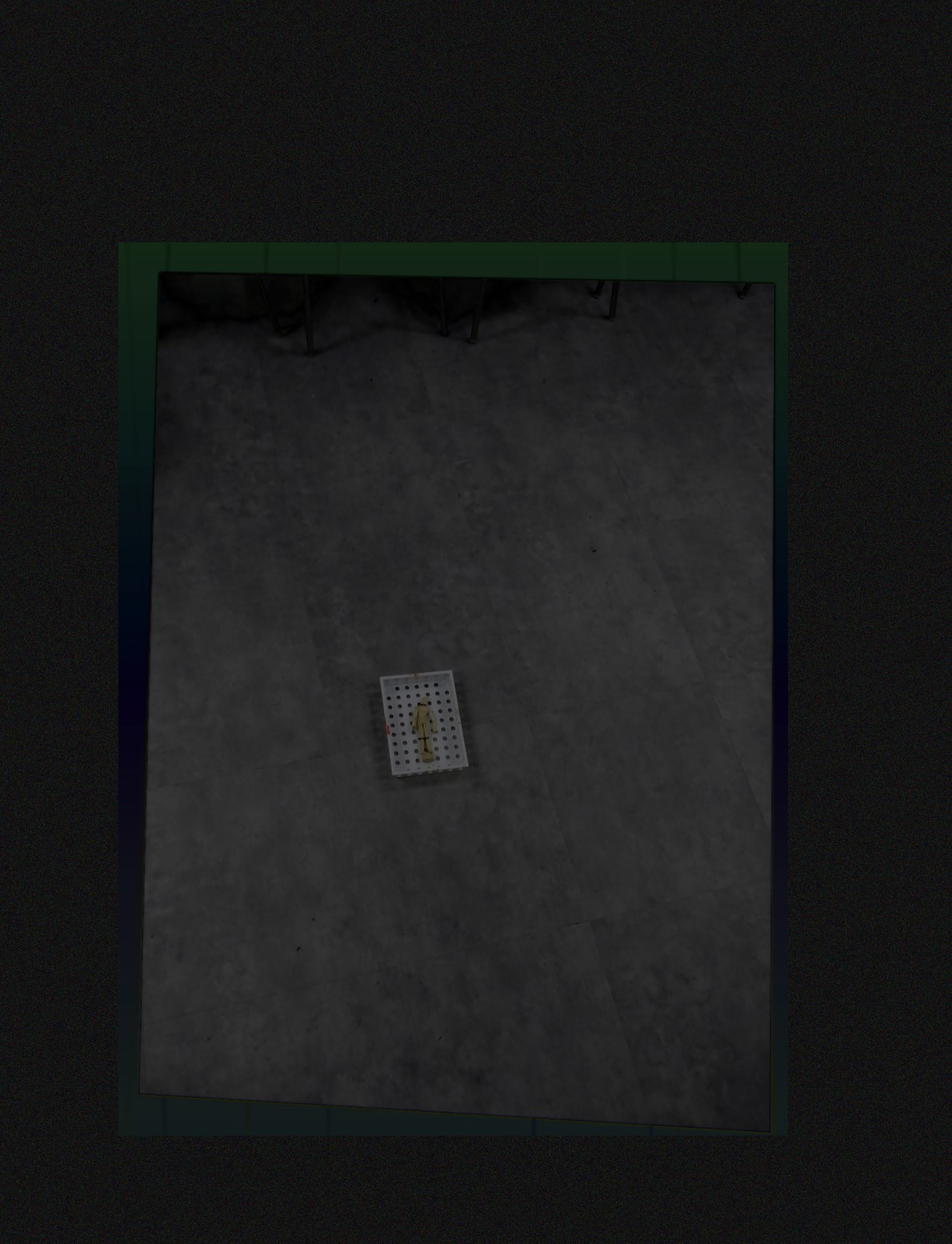basket: (378, 667, 470, 782)
mannequin: (410, 696, 439, 765)
